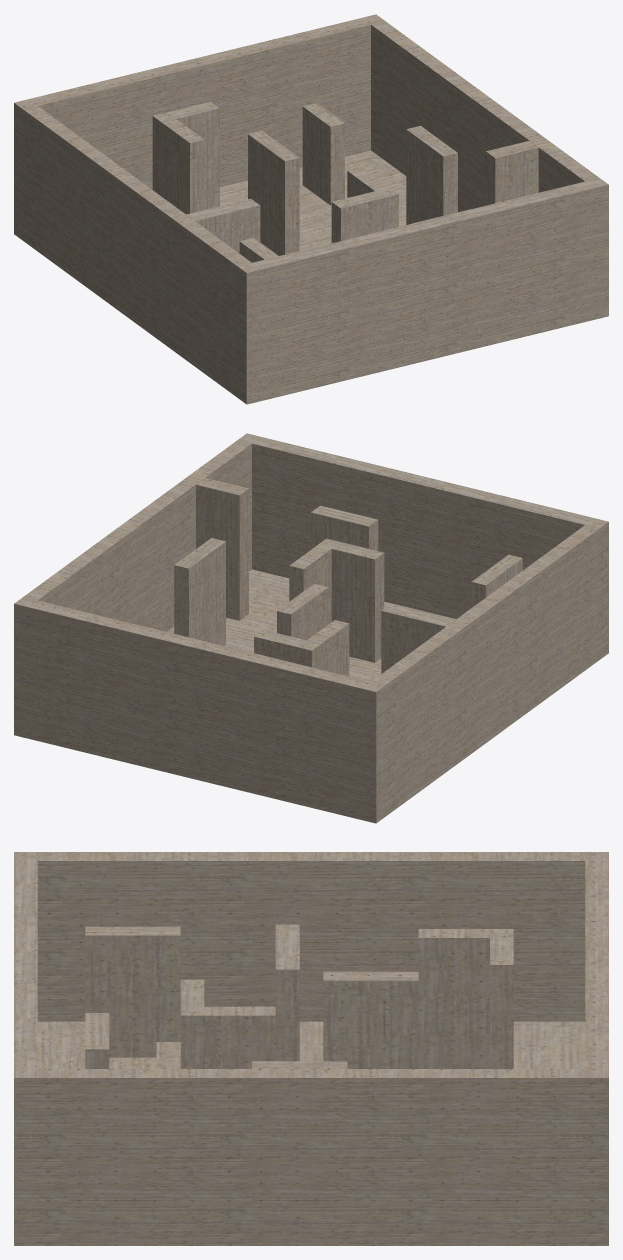
The model's file is interior.fbx.
3 views of the same model, one above another, from view 1: azimuth 30°, elevation 25°; view 2: azimuth 150°, elevation 25°; view 3: azimuth 270°, elevation 25° (orthographic). The views are drawn at different scales.
Visible parts, largest first — view 1: pCube1; view 2: pCube1; view 3: pCube1.
Boxes of the visible parts, bbox=[...] form: pCube1: bbox=[14, 14, 608, 404]; pCube1: bbox=[14, 433, 608, 823]; pCube1: bbox=[14, 852, 608, 1245].
Size of the model in its own units: 49.61 by 17.21 by 55.23.
